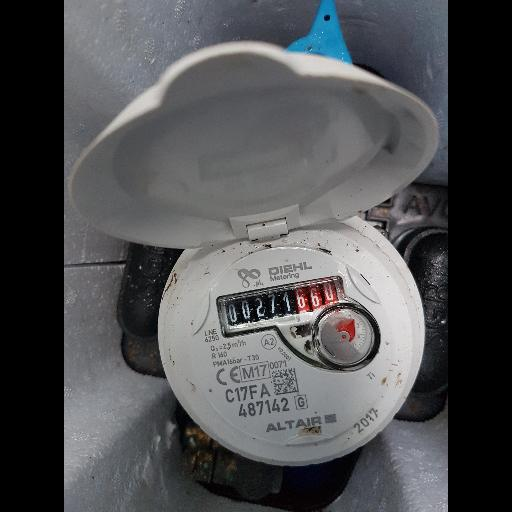0: (238, 296, 257, 324), (224, 300, 243, 327), (321, 280, 340, 305)
1: (281, 288, 300, 317)
2: (252, 294, 272, 322)
6: (294, 285, 313, 313), (308, 283, 327, 311)
7: (266, 291, 286, 320)
border_water_meter_number: (215, 275, 350, 340)
